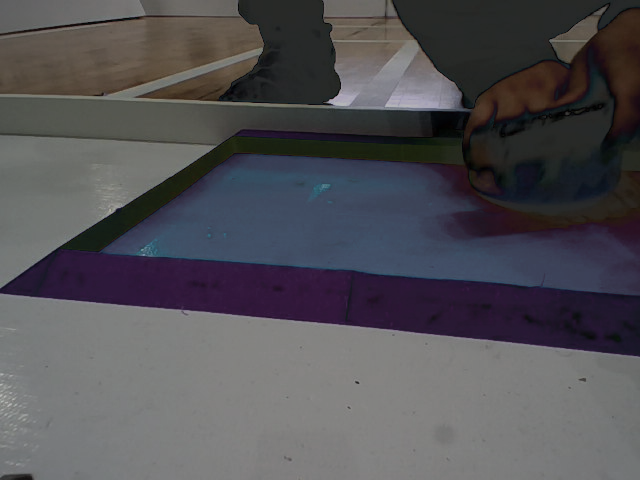kuang: (1, 113, 640, 355)
